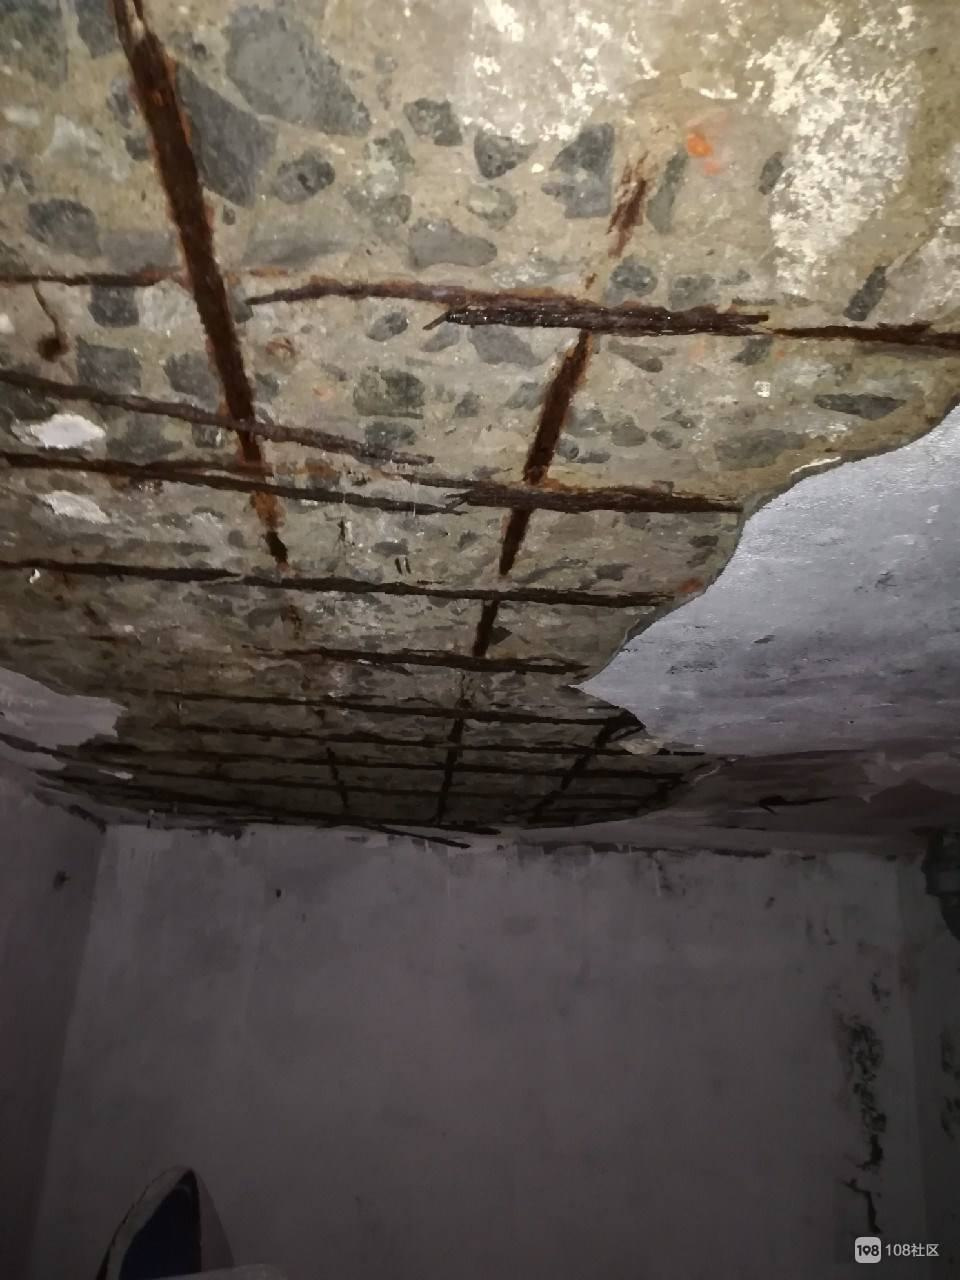Exposed reinforcement: (112, 1, 353, 822), (432, 151, 658, 827), (1, 264, 960, 353), (1, 367, 437, 468), (1, 556, 675, 609), (1, 450, 468, 518), (86, 758, 684, 799), (81, 781, 505, 836), (77, 742, 684, 778), (153, 687, 642, 727), (150, 721, 635, 759), (381, 471, 746, 516), (522, 710, 633, 826), (233, 644, 594, 677), (326, 821, 472, 849), (81, 602, 107, 629), (608, 728, 644, 746), (11, 635, 56, 648), (116, 684, 148, 695), (582, 703, 620, 711), (86, 634, 117, 642), (85, 681, 106, 692), (489, 700, 511, 710)
Spalling: (1, 1, 960, 851), (828, 966, 890, 1235), (96, 1163, 237, 1280)
